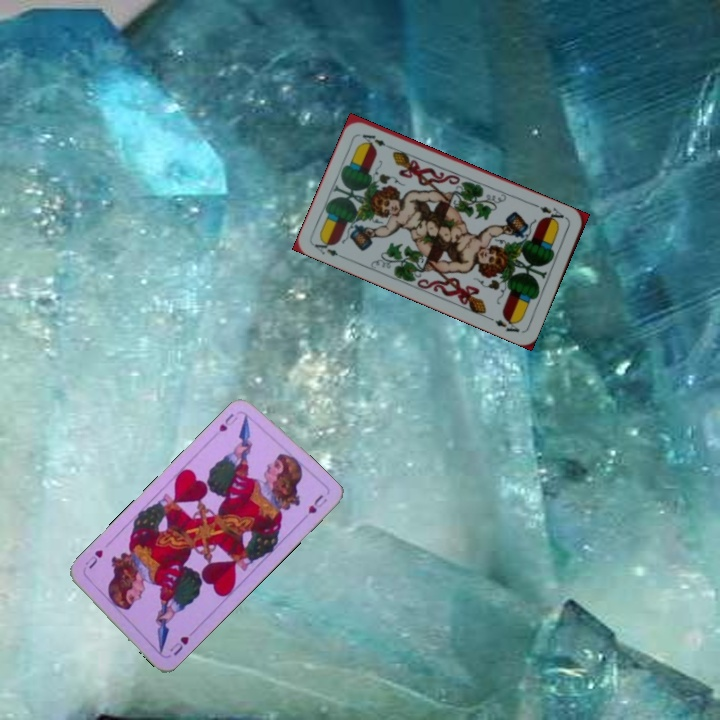EA: (310, 235, 349, 262), (531, 200, 570, 226)
HU: (166, 632, 192, 658), (215, 409, 241, 434)
